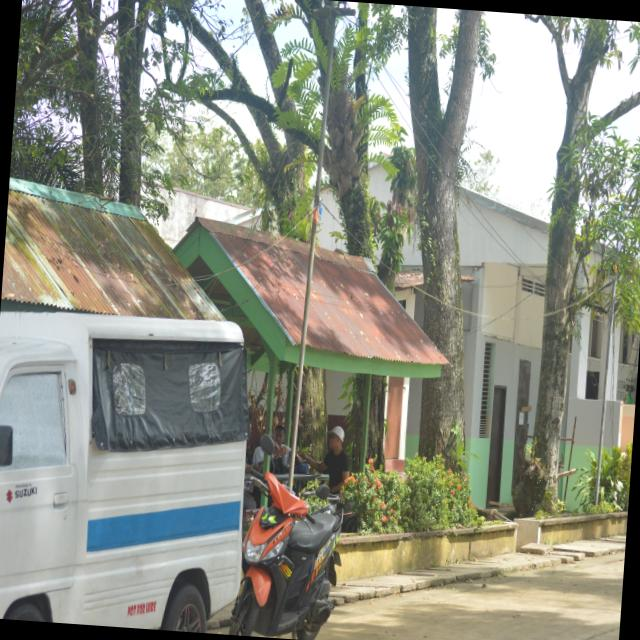person: (301, 427, 350, 493)
